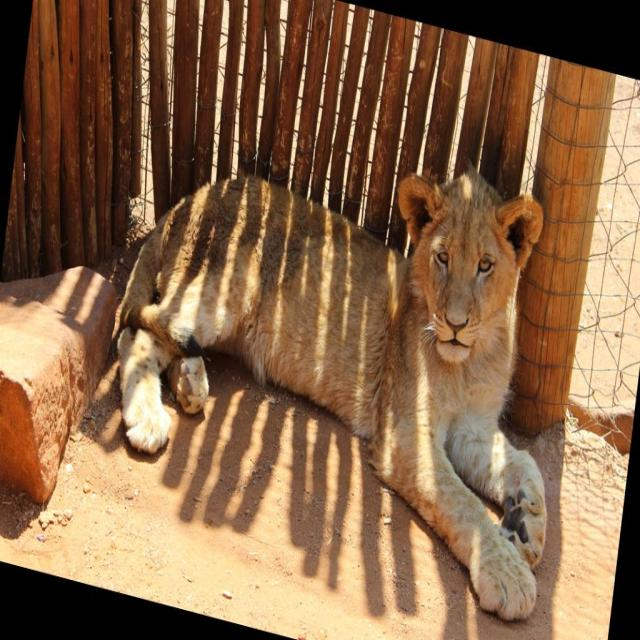Lion: (96, 70, 587, 630)
